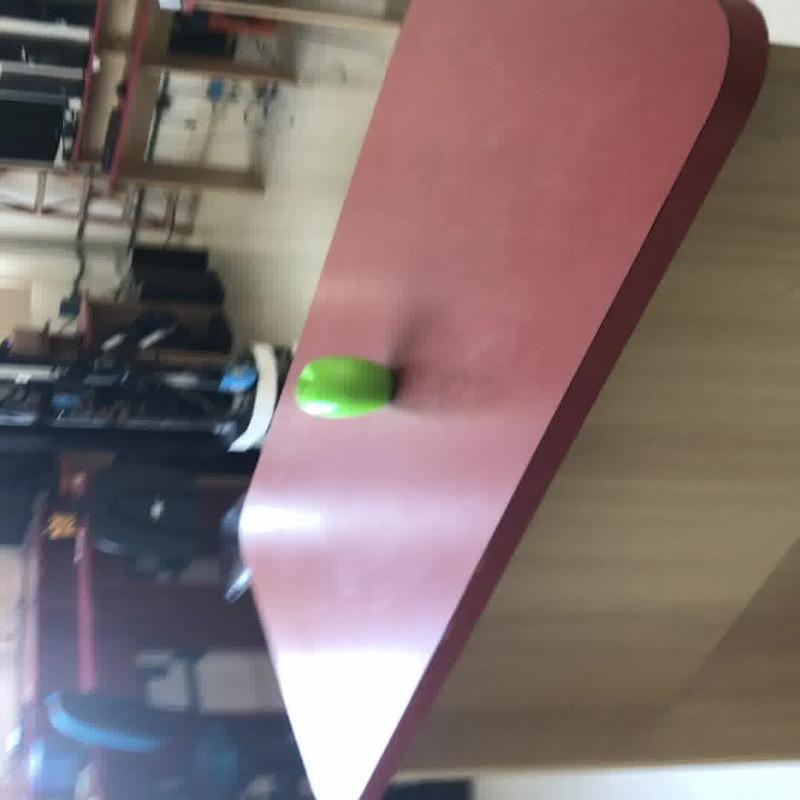apple: (292, 355, 395, 419)
